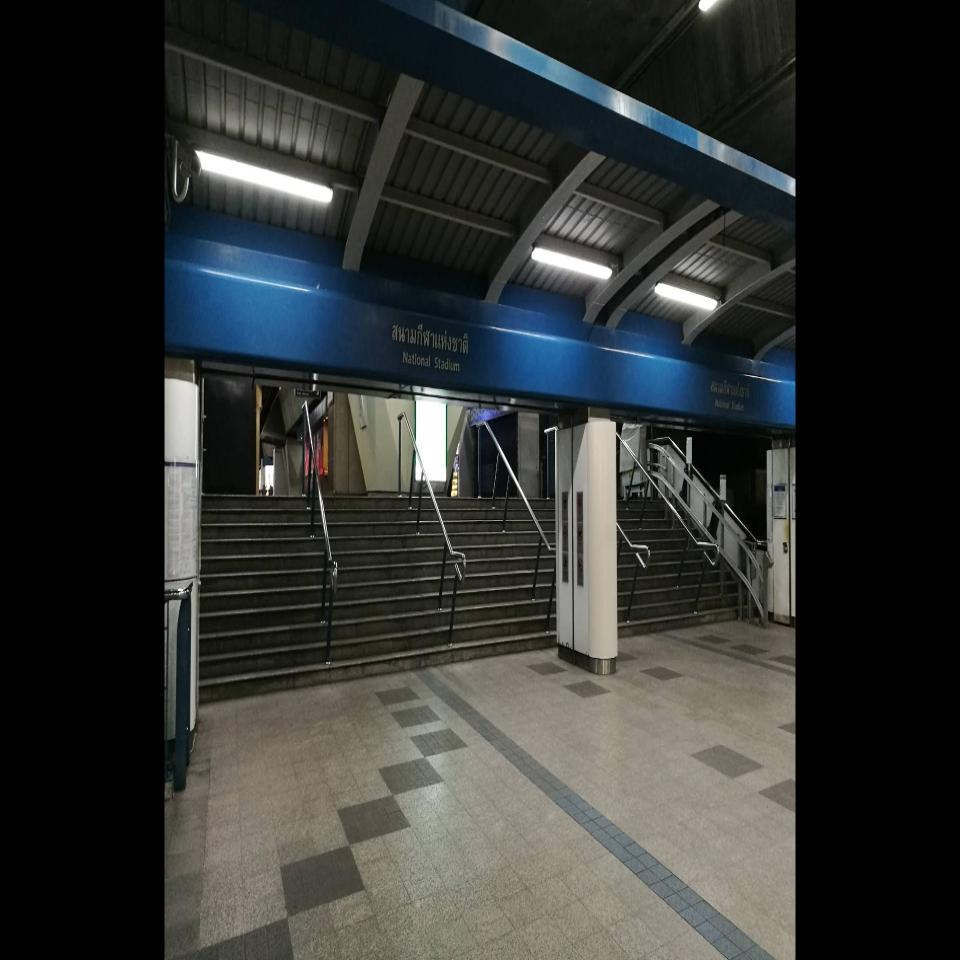signage: (392, 322, 468, 374), (710, 378, 751, 413)
